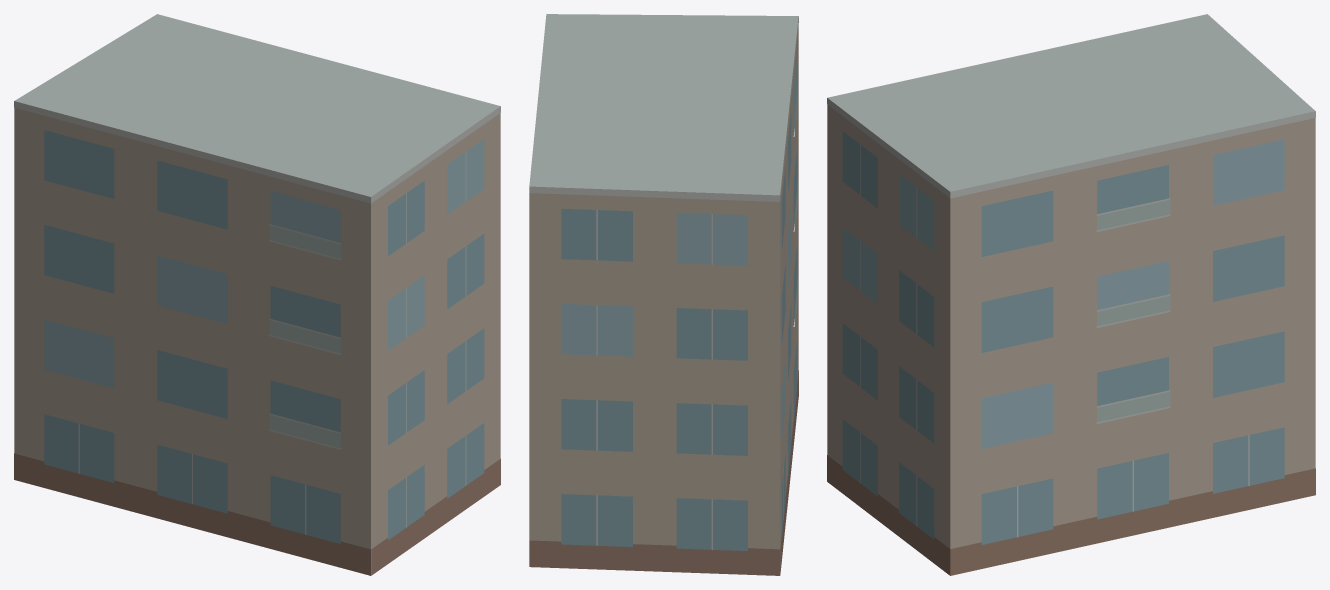
File: survey-upis-32744753.glb
3 views of the same model, side by side, from view 1: azimuth 30°, elevation 25°; view 2: azimuth 150°, elevation 25°; view 3: azimuth 270°, elevation 25° (orthographic).
Visible parts, largest first — view 1: survey-upis-32744753.tmp; view 2: survey-upis-32744753.tmp; view 3: survey-upis-32744753.tmp.
Boxes of the visible parts, x1,y1,x2,y2 form: survey-upis-32744753.tmp: [14, 14, 500, 575]; survey-upis-32744753.tmp: [529, 14, 798, 575]; survey-upis-32744753.tmp: [827, 14, 1315, 575].
Bounding box in the file's own units: 14.12 × 14.2 × 16.39.
